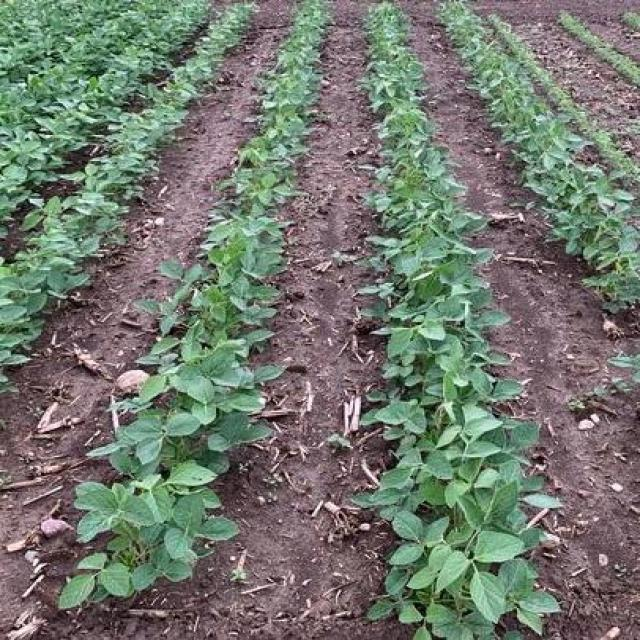row: (1, 0, 296, 640), (409, 1, 640, 640), (175, 2, 390, 609), (0, 0, 233, 279), (494, 0, 640, 173), (573, 0, 640, 66)
